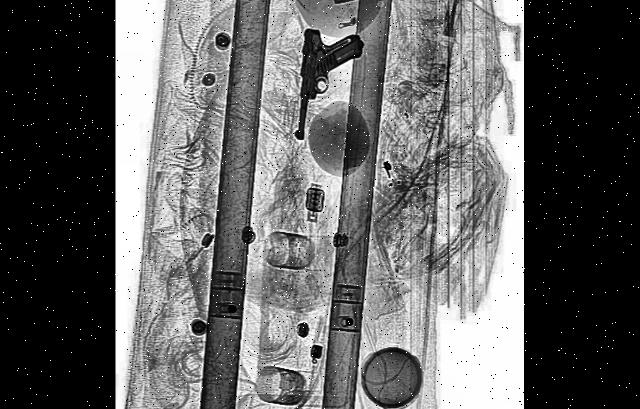Gun: (293, 18, 364, 157)
